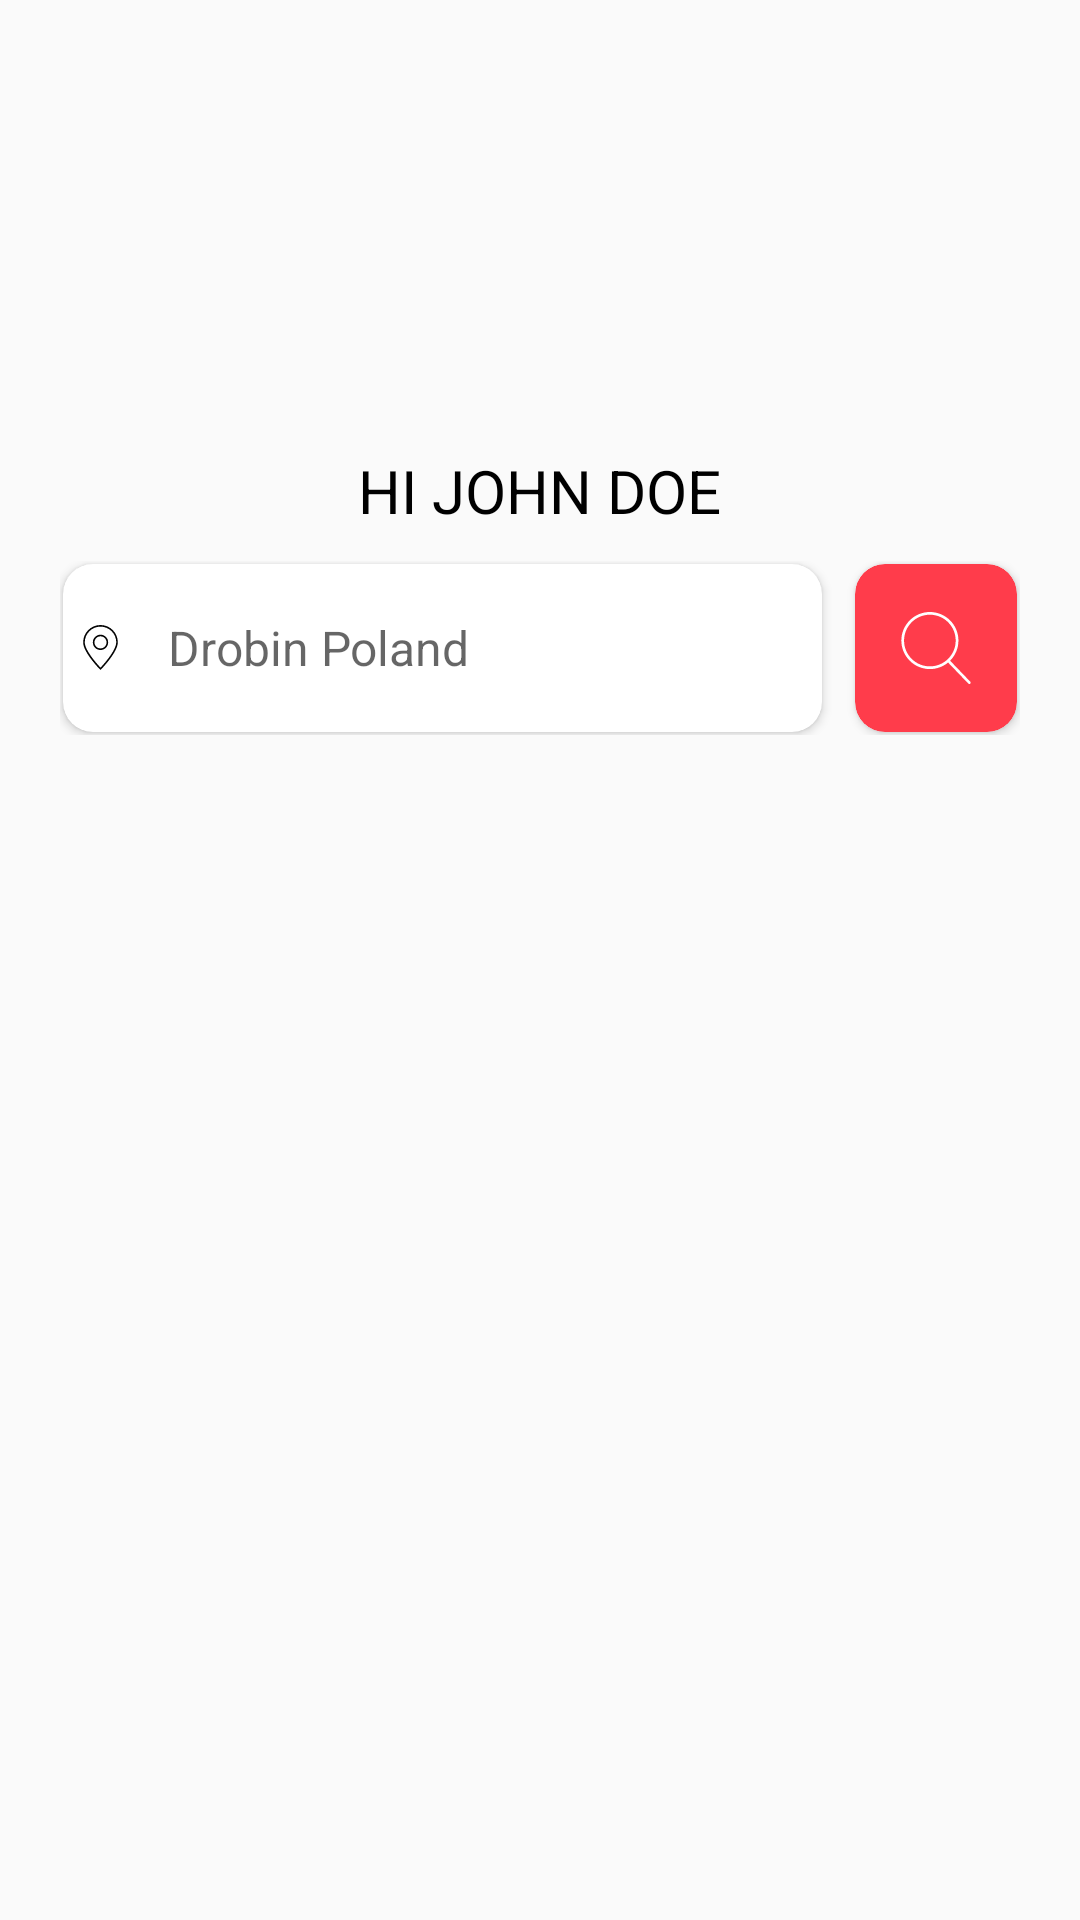

Where to tap for icons on this 1080×1920 app screen, as (x=x, y=y):
blank map pointer dashbord: (x=100, y=647)
search dashboard: (x=936, y=648)
